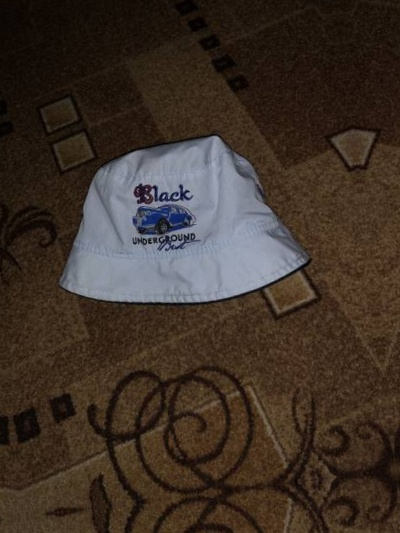Hat: (37, 77, 327, 339), (393, 31, 400, 294)
